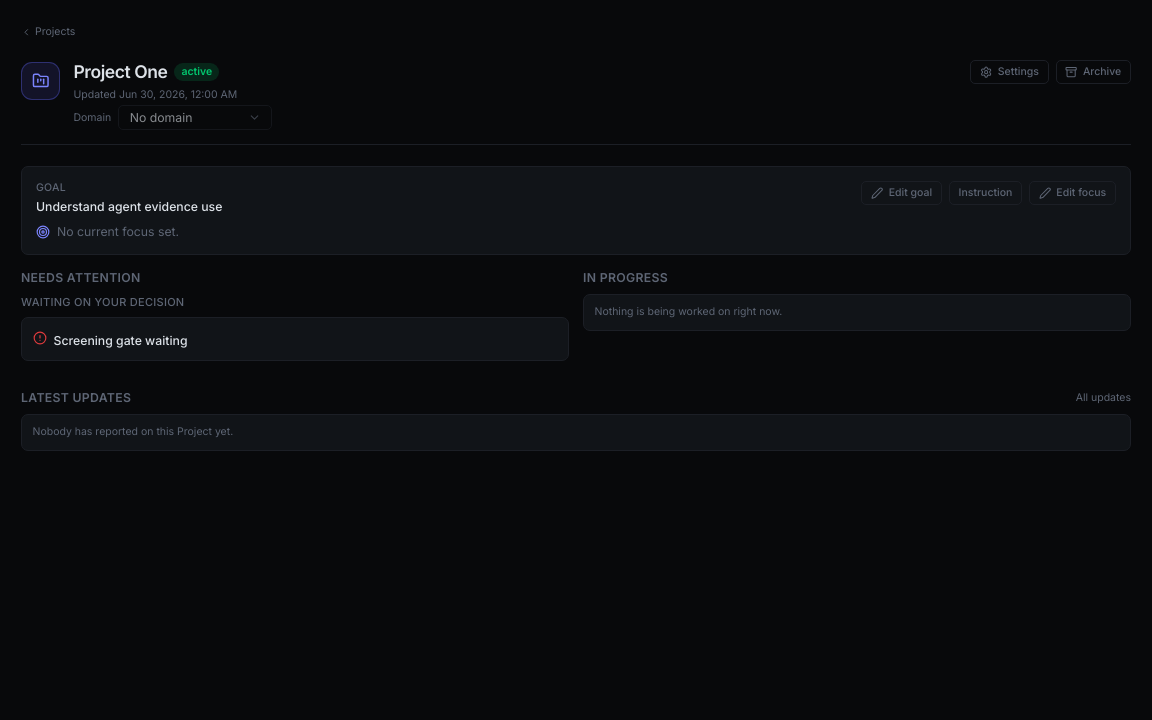
Test: Project settings link to Source management › keeps the dialog and its draft when the person chooses to keep editing
Click the button "Settings". click: (1010, 72)
box: [970, 60, 1049, 84]
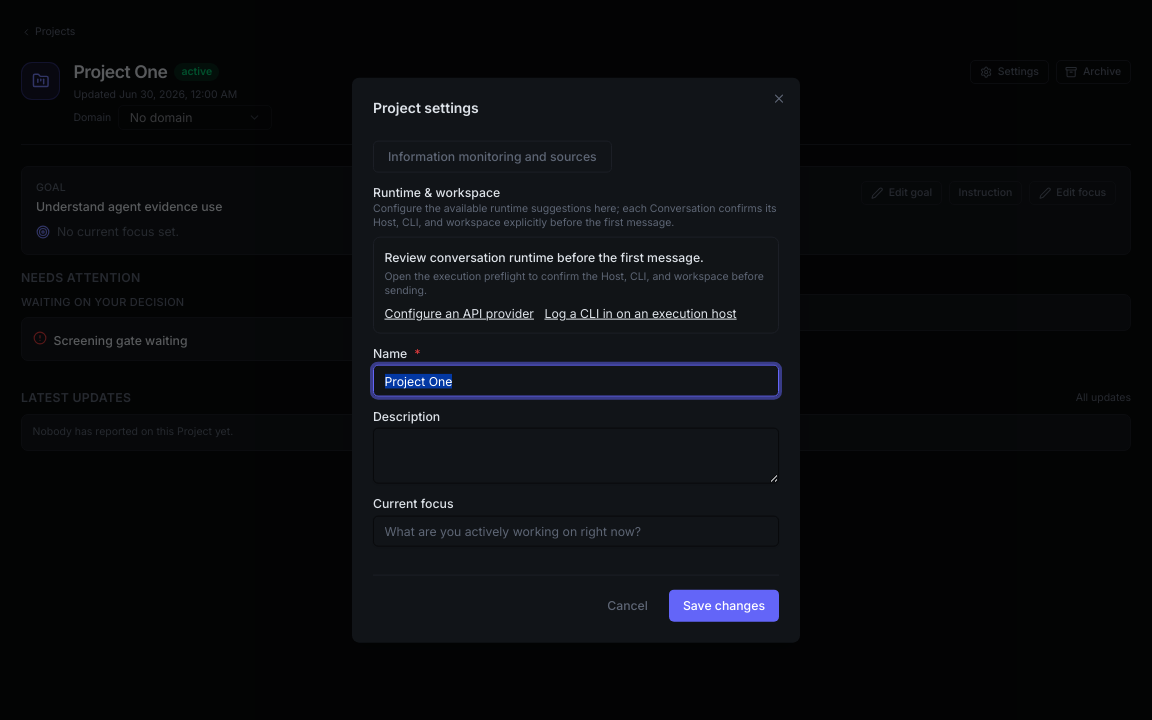
Replace the text in the field showing "Project One" with "Unsaved name". click: (576, 381)
box: [373, 365, 779, 396]
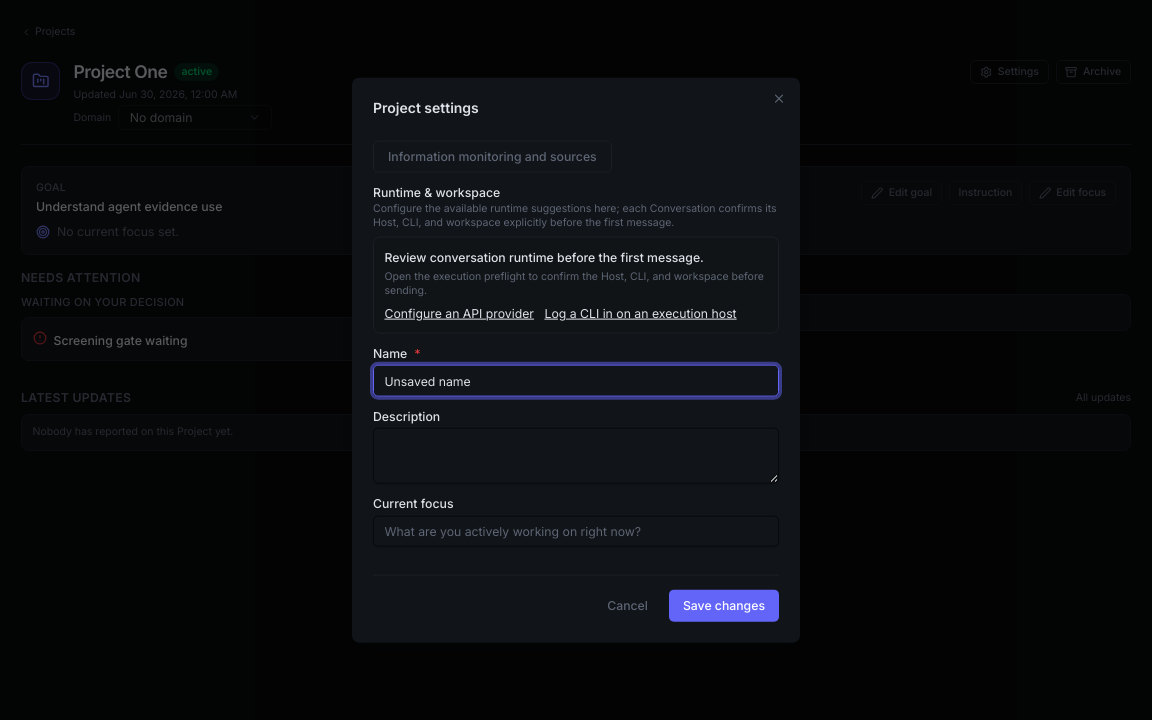
Click the link "Information monitoring and sources". click: (492, 156)
box: [373, 141, 612, 172]
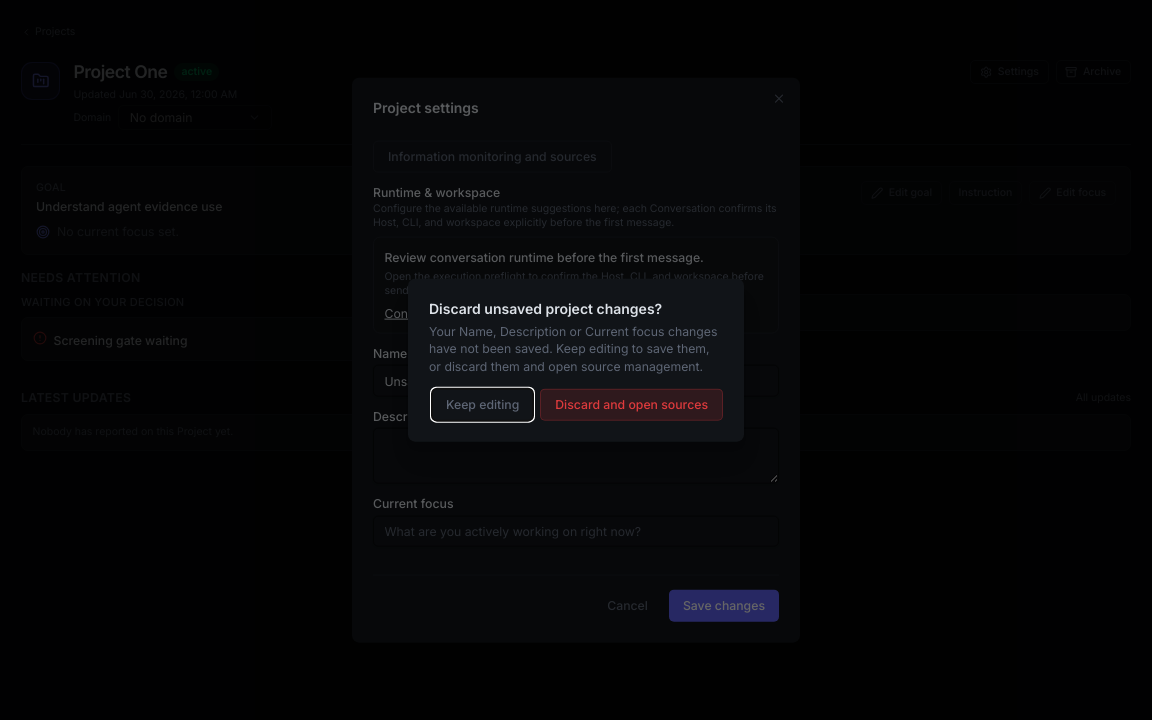
Click the button "Keep editing". click: (483, 405)
box: [432, 389, 533, 420]
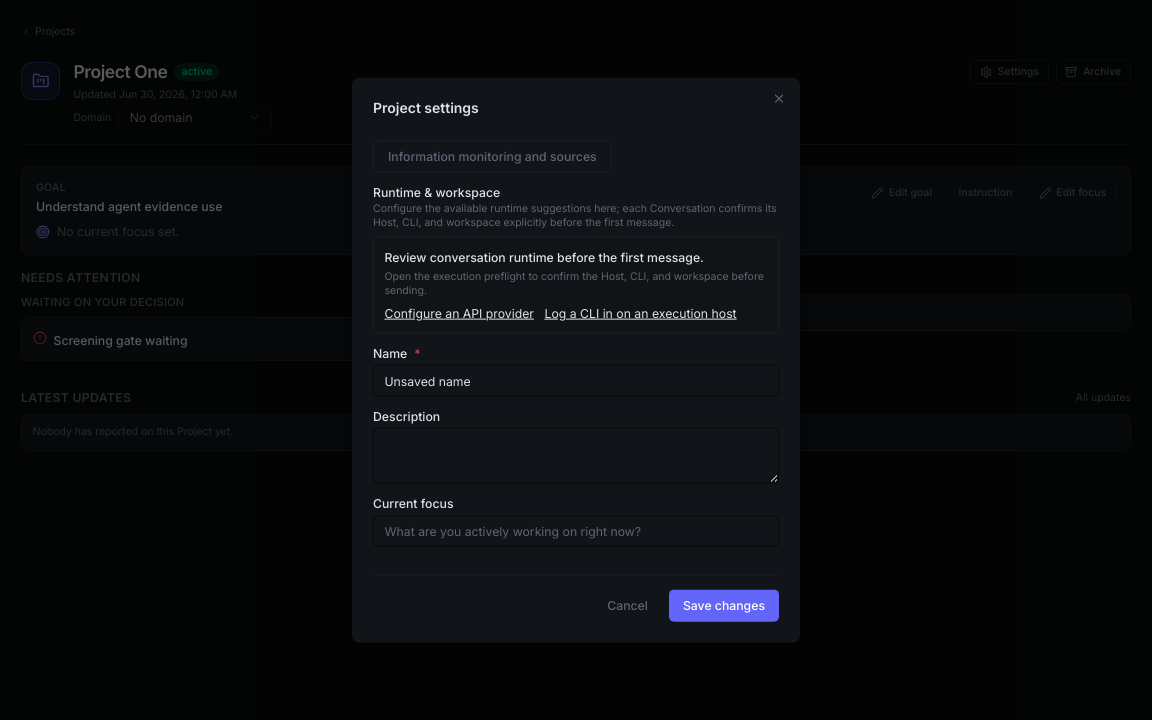
expect the heading "Discard unsaved project changes?" is gone: met
